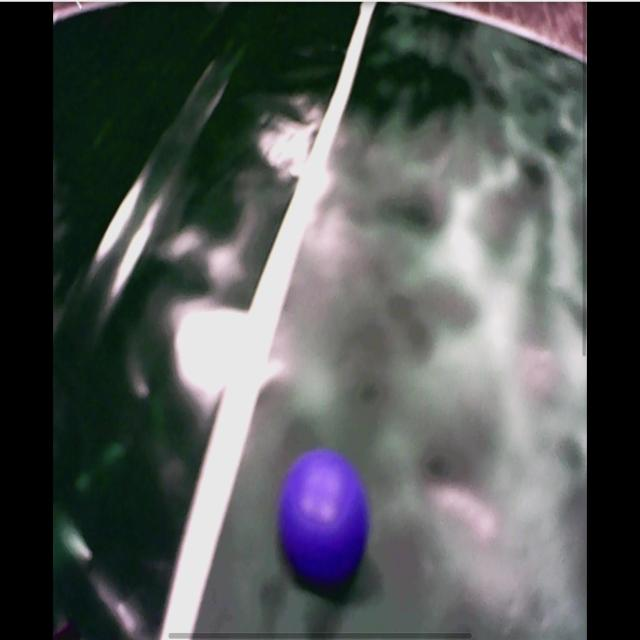ball: (280, 451, 369, 584)
